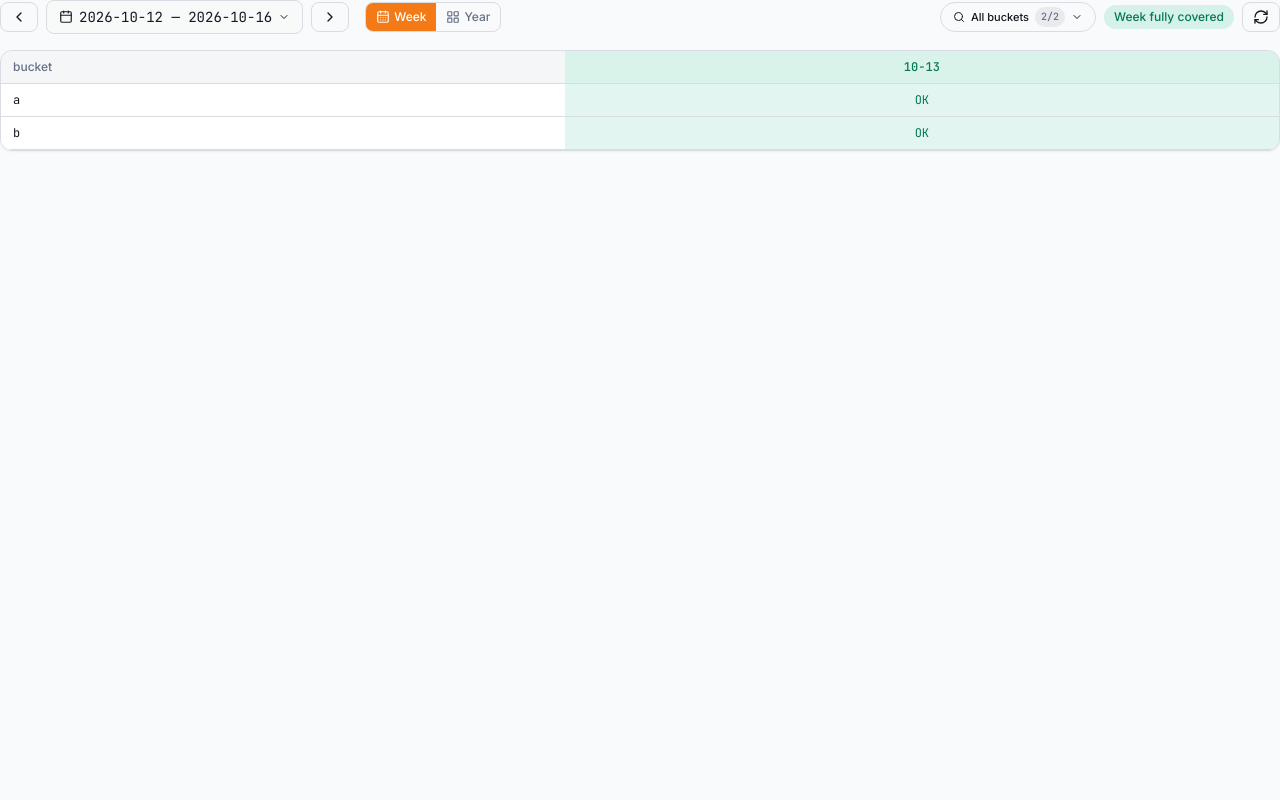
Test: StockHistoryCoveragePanel day drawer › says every selected bucket is present only when each one has a present status
Click the button "10-13" at (922, 67), box [577, 59, 1267, 75]
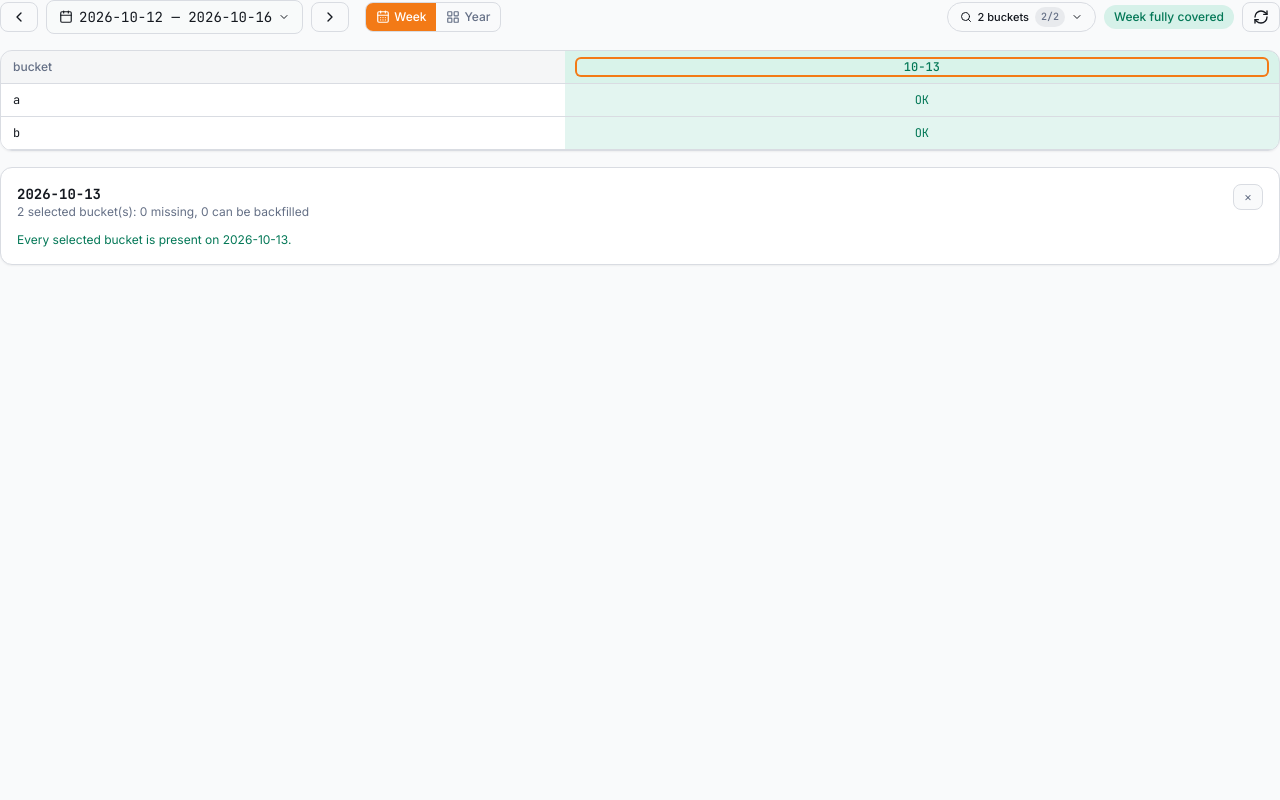
Expected: the text "Every selected bucket is present on 2026-10-13." is shown, [17, 232, 291, 247]
